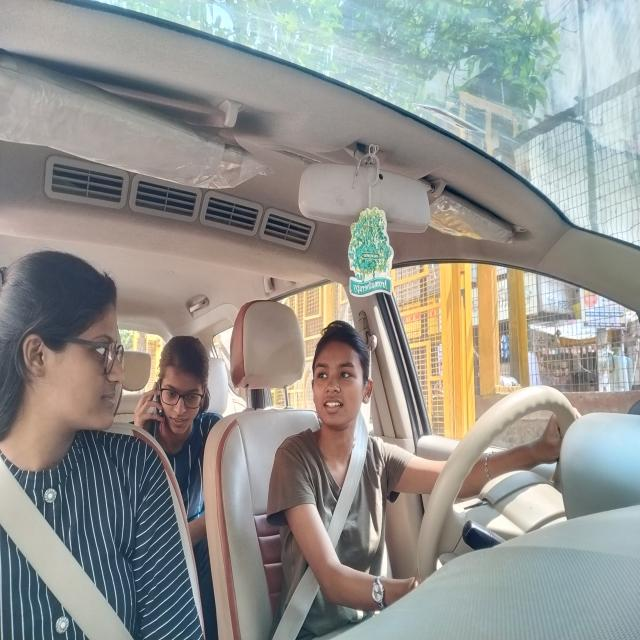LeftRight: (308, 320, 375, 438)
person: (1, 249, 131, 433), (157, 334, 210, 441)
talking: (320, 394, 348, 416)
